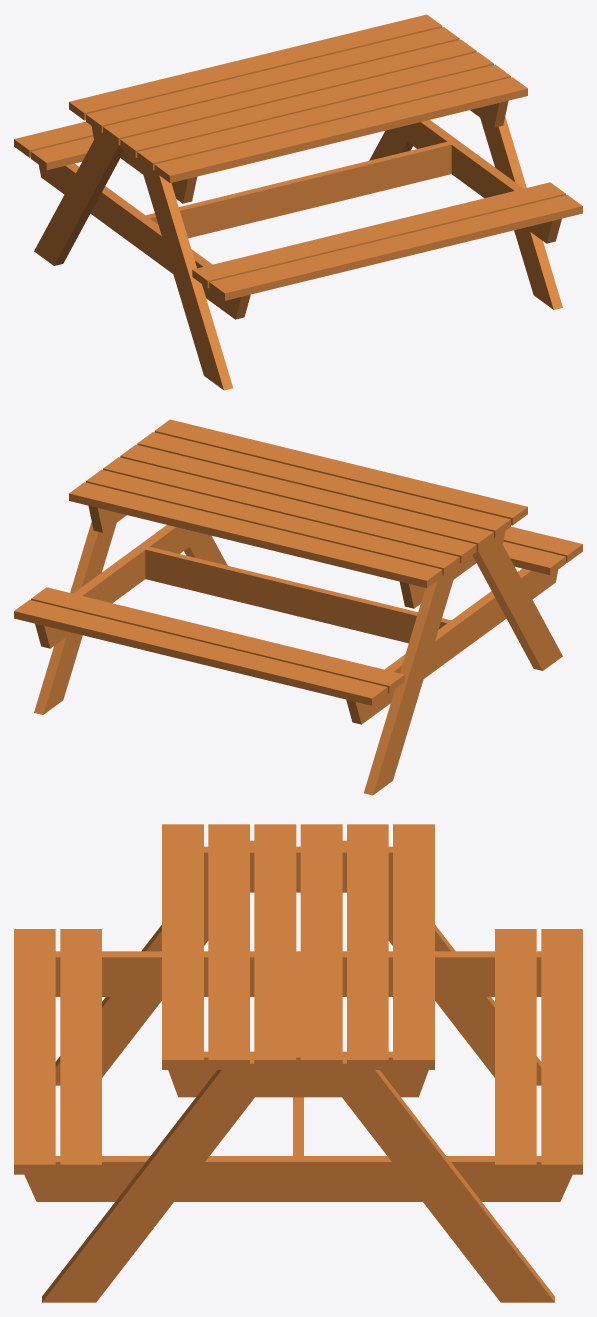
Rendered from Meja Kursi.fbx.
3 renders of one model, top to bottom at view 1: azimuth 30°, elevation 25°; view 2: azimuth 150°, elevation 25°; view 3: azimuth 270°, elevation 25°, orthographic. The views are drawn at different scales.
Parts seen in each view (by area): view 1: PicnicTable; view 2: PicnicTable; view 3: PicnicTable.
Boxes of the visible parts, x1=… form: PicnicTable: x1=14, y1=14, x2=582, y2=390; PicnicTable: x1=14, y1=419, x2=582, y2=795; PicnicTable: x1=14, y1=824, x2=582, y2=1302.
Bounding box in the file's own units: 6599 × 3248 × 6733.
